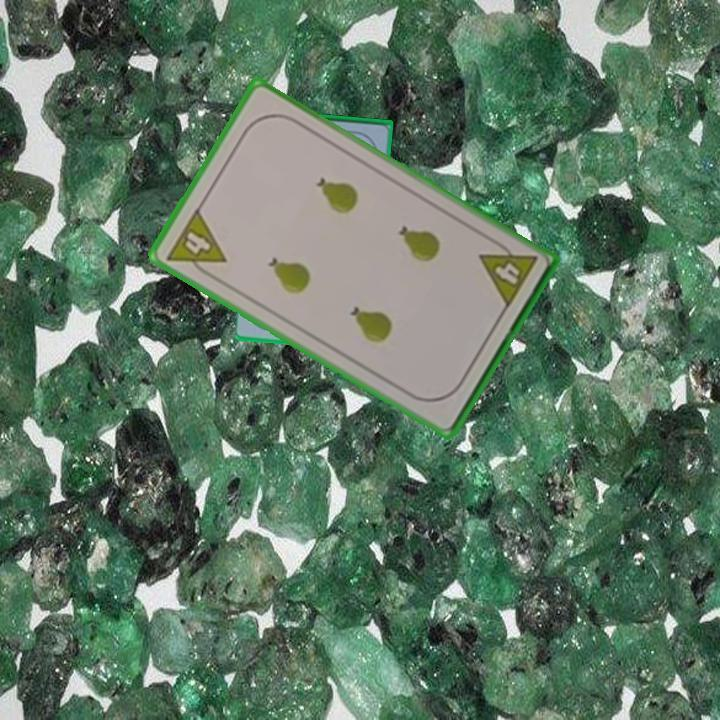4p: (162, 204, 229, 283), (475, 234, 540, 312)
